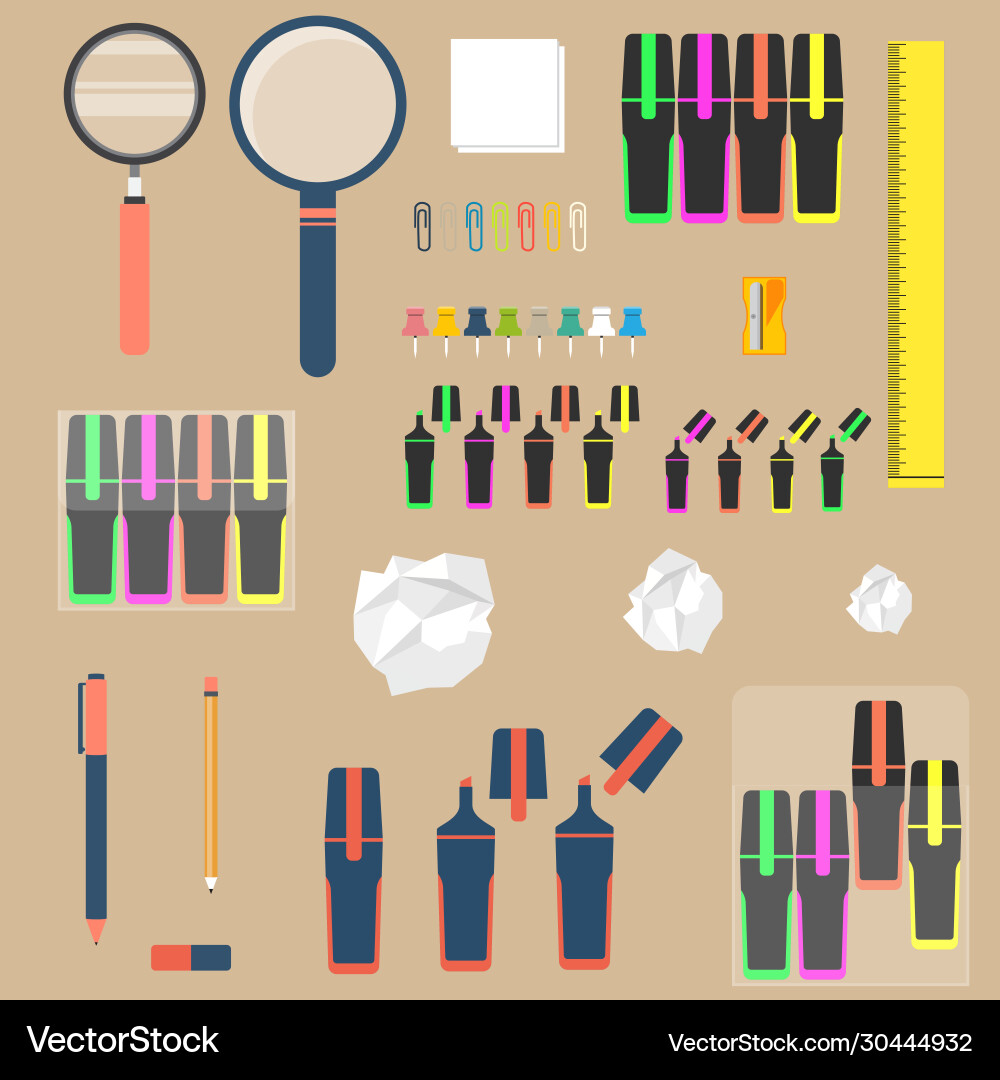not a gesture sign: (236, 13, 408, 377), (535, 762, 731, 980), (303, 671, 404, 975), (63, 24, 206, 217), (890, 432, 999, 666), (754, 697, 846, 863), (899, 740, 967, 953), (887, 247, 947, 471), (516, 581, 614, 712), (302, 402, 383, 533), (415, 793, 454, 954), (465, 672, 554, 738), (105, 757, 146, 876), (328, 1020, 397, 1079), (674, 902, 741, 944), (106, 681, 160, 733), (583, 522, 629, 578)
